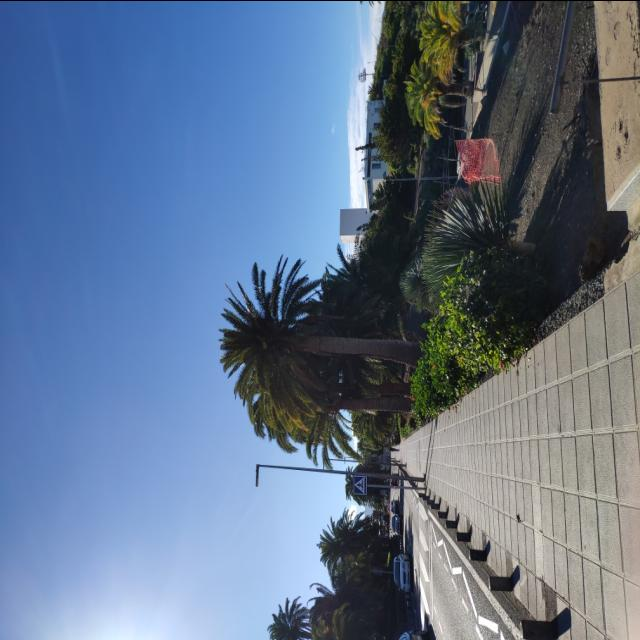Palm-Trees: (218, 248, 424, 438)
